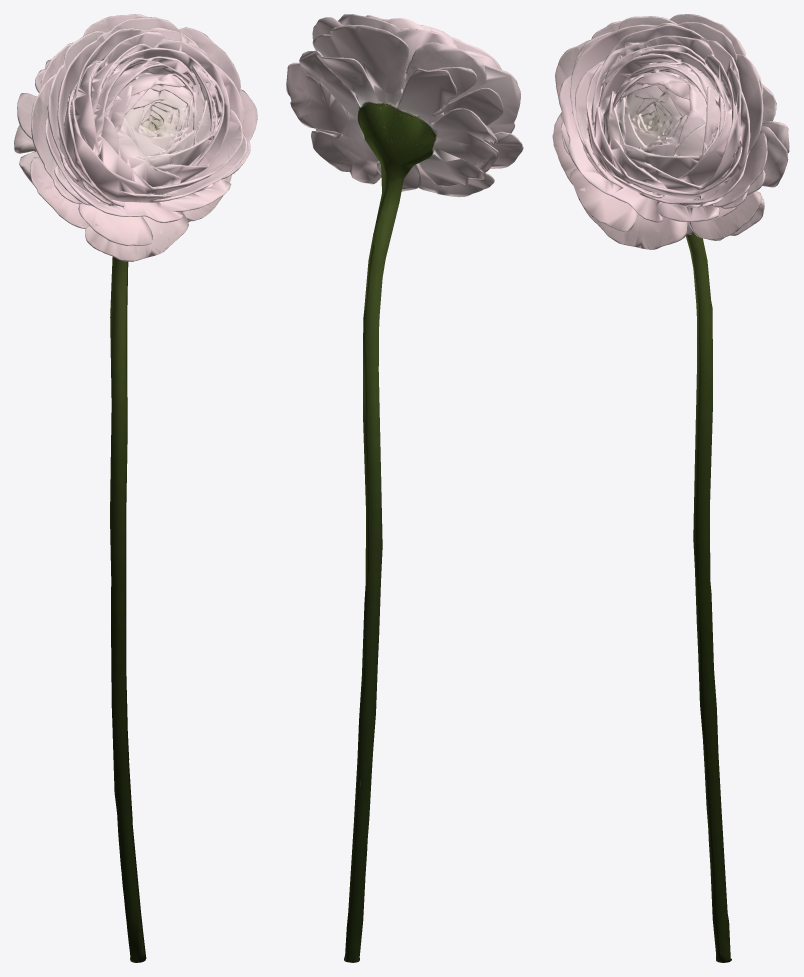
The model's file is blush.glb.
3 renders of one model, left to right at view 1: azimuth 30°, elevation 25°; view 2: azimuth 150°, elevation 25°; view 3: azimuth 330°, elevation 25°, orthographic.
Bounding box in the file's own units: 0.4702 × 1.9 × 0.2332.
1 material, 1 textured.
